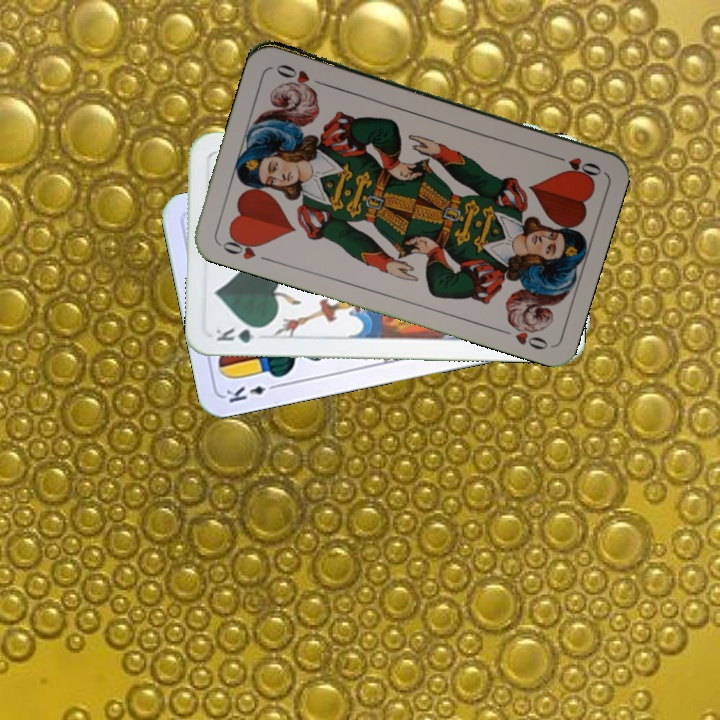EK: (222, 380, 281, 406)
GK: (212, 323, 269, 345)
HO: (215, 230, 273, 264), (547, 150, 604, 178)
